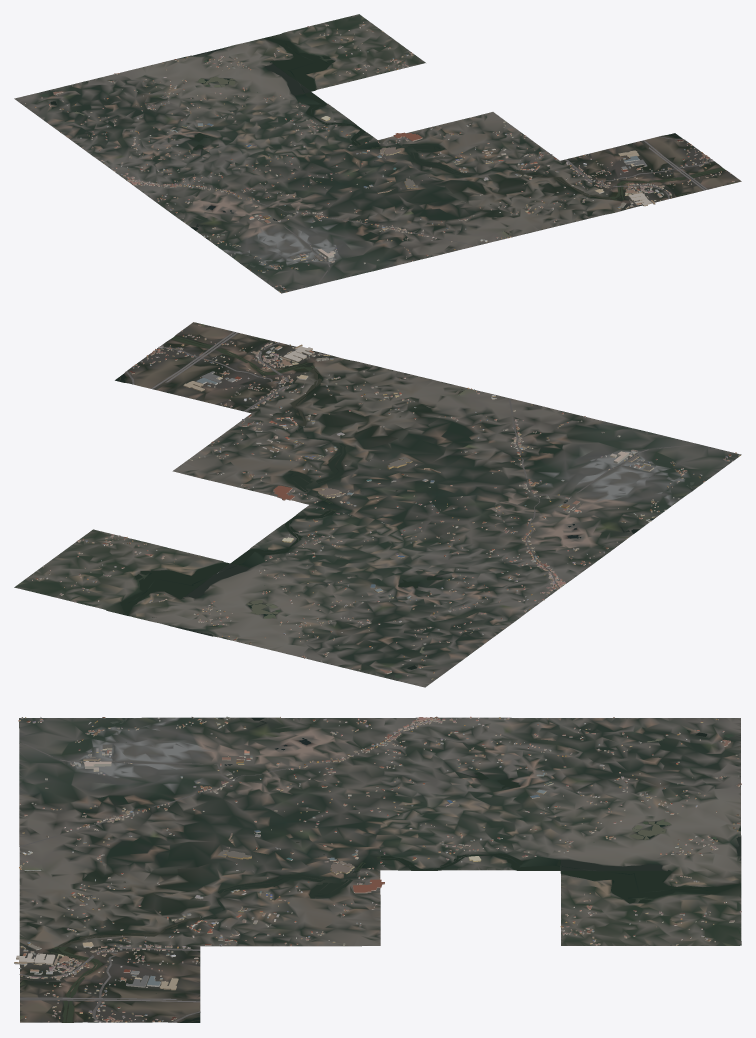
The picture shows the model from 3 angles, top to bottom: view 1: azimuth 30°, elevation 25°; view 2: azimuth 150°, elevation 25°; view 3: azimuth 270°, elevation 25°; orthographic projection. The views are drawn at different scales.
Visible parts, largest first — view 1: ground, buildings, water, roads; view 2: ground, buildings, water, roads; view 3: ground, buildings, water, roads.
Boxes of the visible parts, x1,y1,x2,y2 form: ground: (14,14,741,293); buildings: (25,22,734,292); water: (42,35,725,267); roads: (127,136,711,284); ground: (14,322,741,687); buildings: (32,324,740,679); water: (115,336,694,677); roads: (125,331,696,588); ground: (19,717,741,1022); buildings: (14,716,741,1022); water: (24,717,741,1022); roads: (19,718,433,1022).
Size of the model in its own units: 5606 by 39.7 by 5656.
